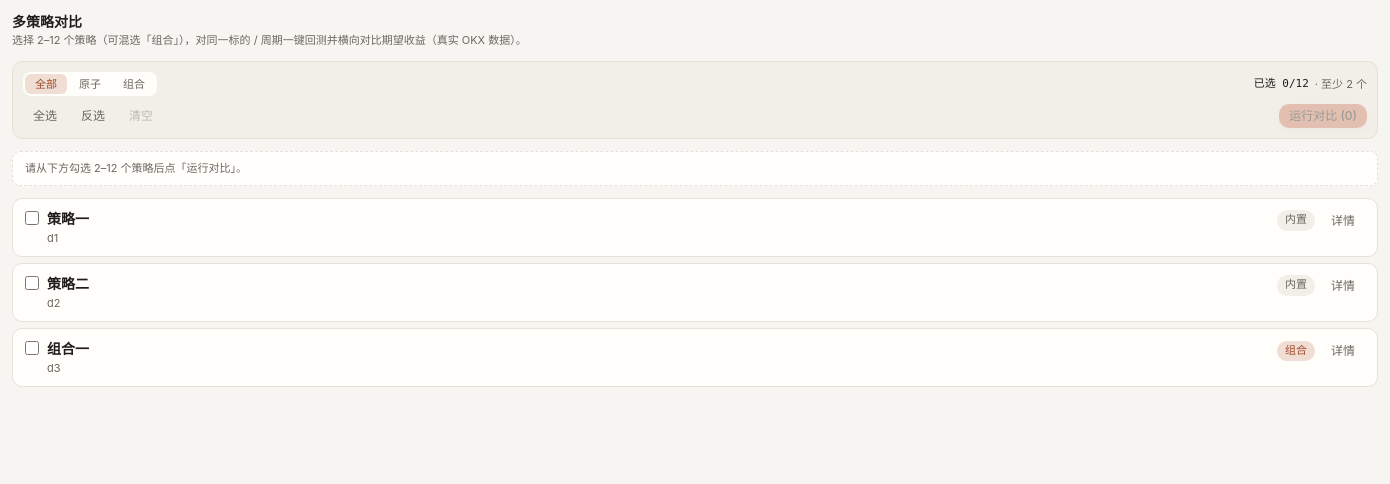
Test: CompareView › clears results, removing the leaderboard (responsive cache read)
The image size is (1390, 484).
Expected: the text "策略一" is shown, x1=47 y1=208 x2=89 y2=228
What coordinates should you click on to do the following:
click the checkbox named "选择 策略一"
I would click on:
 (32, 218)
Its box is x1=25 y1=210 x2=39 y2=224.
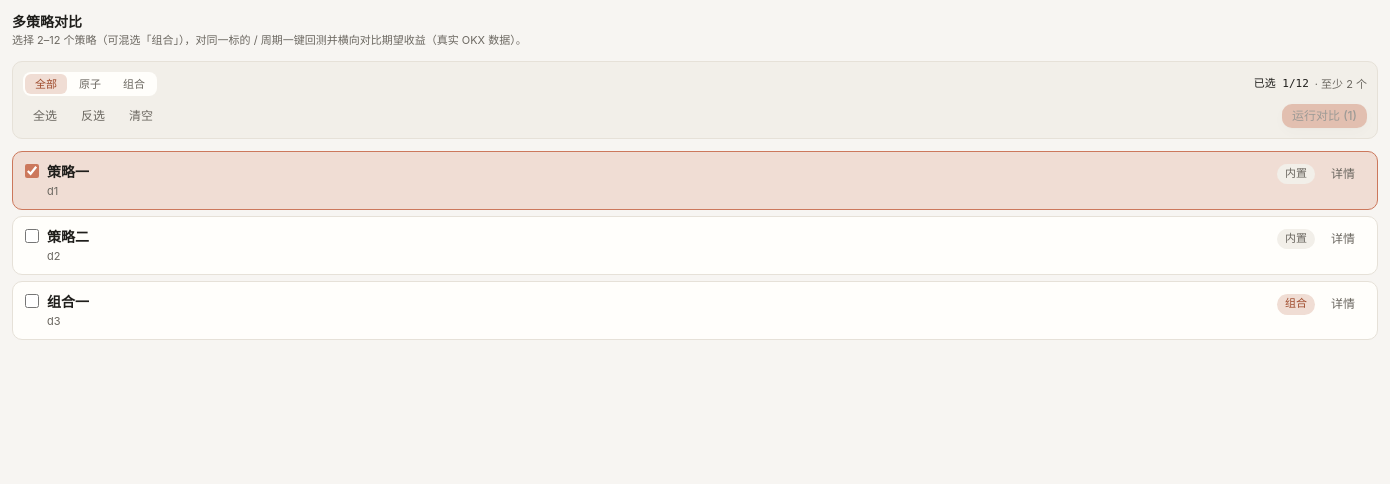
What coordinates should you click on to do the following:
click the checkbox named "选择 策略二"
I would click on:
 (32, 236)
Its box is x1=25 y1=229 x2=39 y2=243.
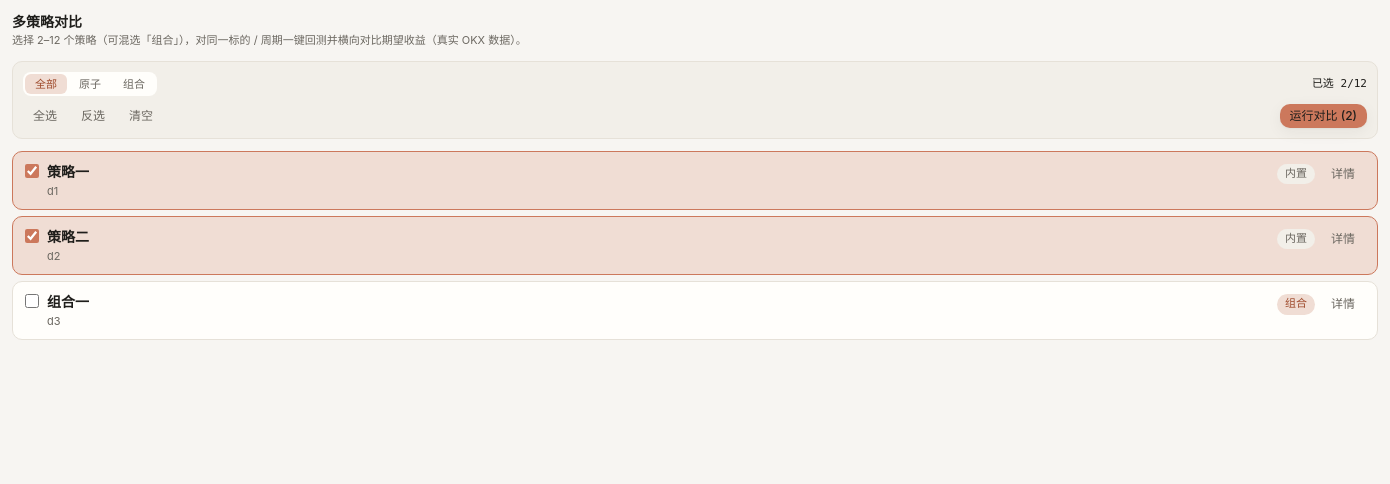
What coordinates should you click on to do the following:
click the button "运行对比 (2)"
I would click on:
 (1323, 116)
Its box is x1=1280 y1=104 x2=1367 y2=128.
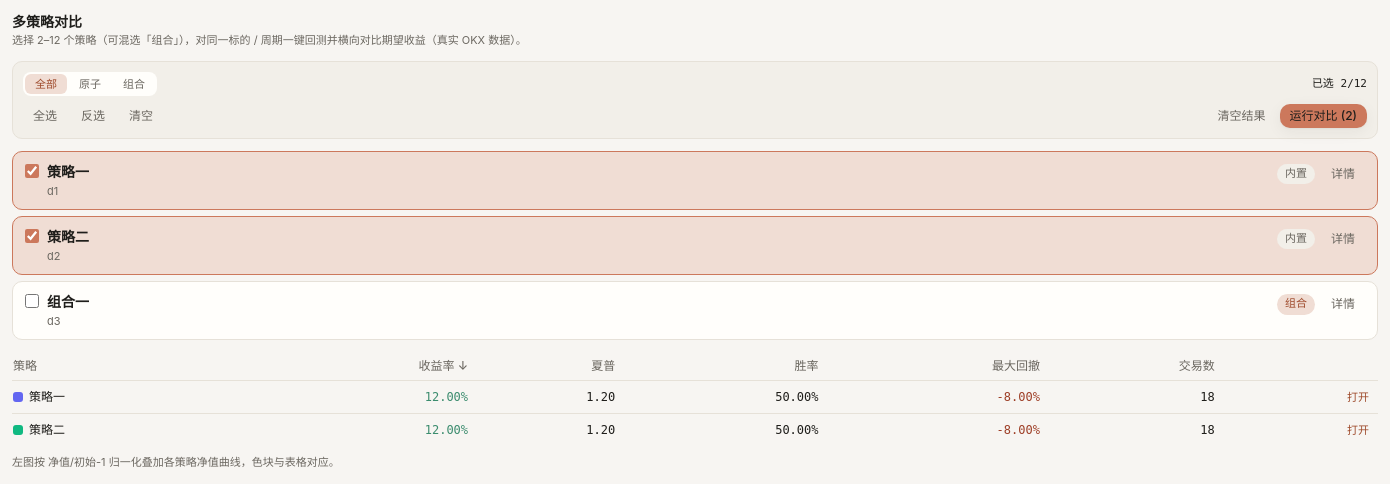
Expected: the column heading "收益率 ↓" is shown, x1=249 y1=352 x2=476 y2=381
What coordinates should you click on to do the following:
click the button "清空结果"
I would click on:
 (1242, 116)
Its box is x1=1208 y1=104 x2=1276 y2=128.
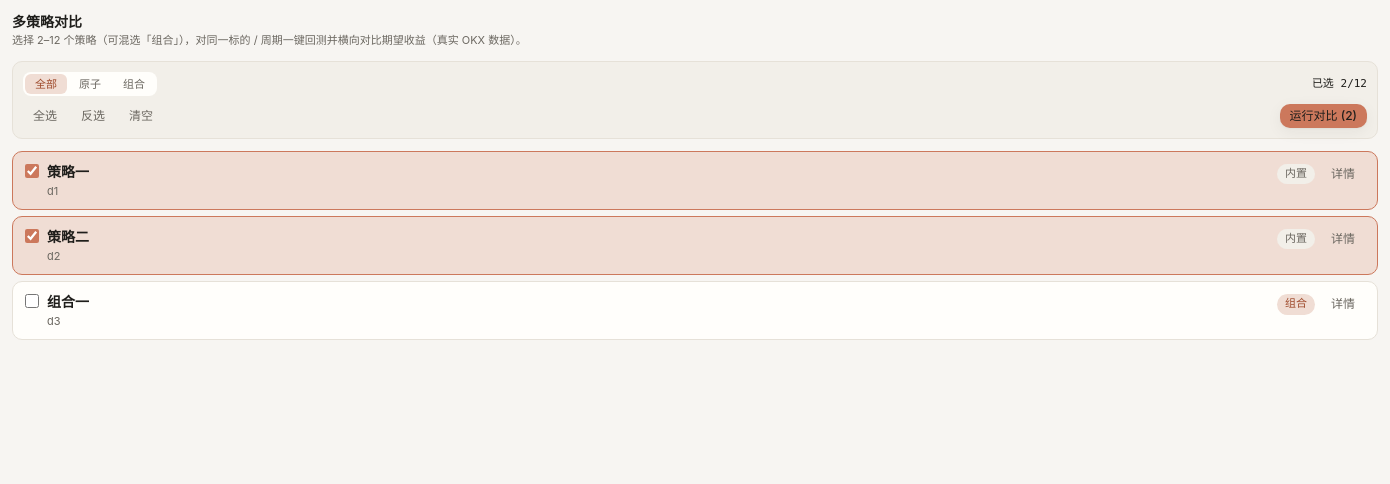
Expected: the column heading "收益率" is gone
